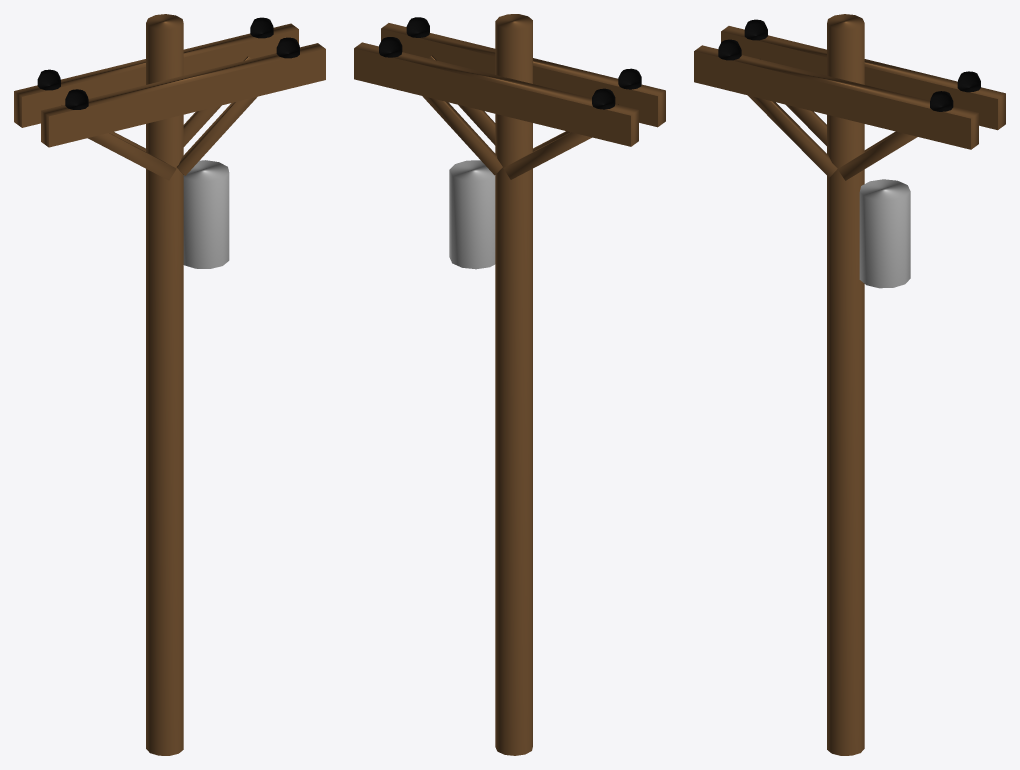
Rendered from Telephone Pole.fbx.
3 renders of one model, left to right at view 1: azimuth 30°, elevation 25°; view 2: azimuth 150°, elevation 25°; view 3: azimuth 330°, elevation 25°, orthographic.
Parts seen in each view (by area): view 1: Telephone Pole; view 2: Telephone Pole; view 3: Telephone Pole.
Part boxes in pixels (x1,y1,x2,y2): Telephone Pole: [14, 14, 325, 755]; Telephone Pole: [354, 14, 665, 755]; Telephone Pole: [694, 14, 1005, 755].
Size of the model in its own units: 779 by 1951 by 189.
